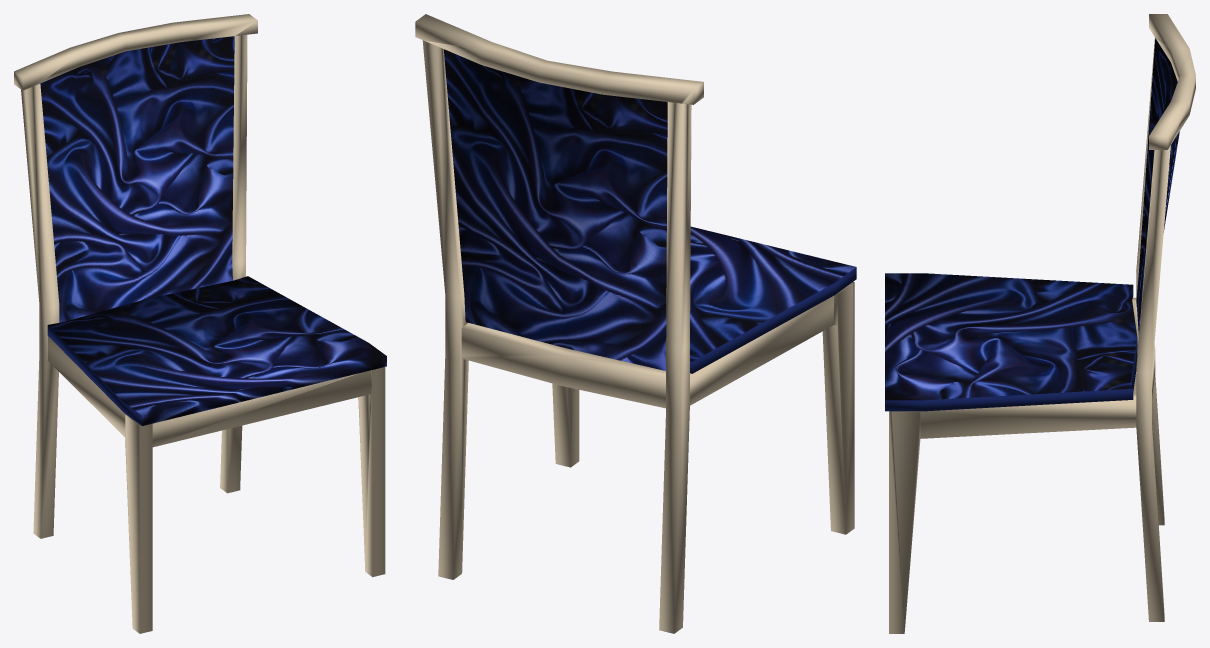
Rendered from chair2.glb.
3 views of the same model, side by side, from view 1: azimuth 30°, elevation 25°; view 2: azimuth 150°, elevation 25°; view 3: azimuth 270°, elevation 25° (orthographic). The views are drawn at different scales.
Visible parts, largest first — view 1: chair_office_y; view 2: chair_office_y; view 3: chair_office_y.
Part boxes in pixels (bbox=[...]): chair_office_y: bbox=[14, 14, 386, 633]; chair_office_y: bbox=[415, 14, 856, 633]; chair_office_y: bbox=[885, 14, 1195, 633].
Bounding box in the file's own units: 1.02 × 1.85 × 1.05.
Materials: 2 (1 with a texture image).
